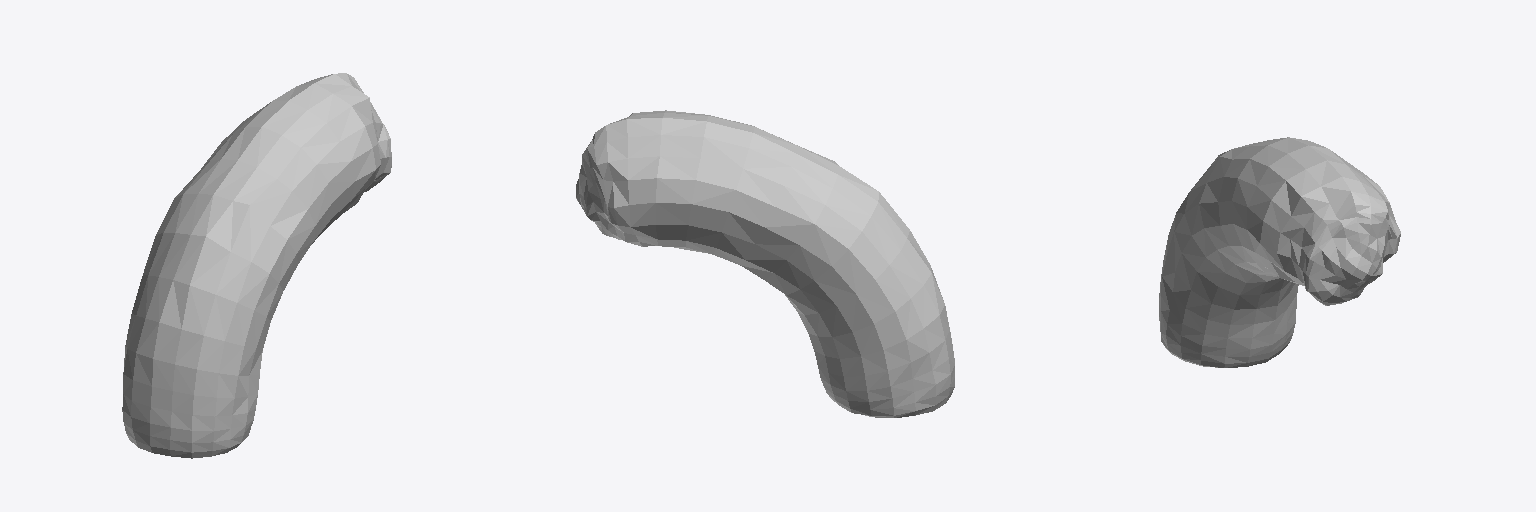
3 views of the same model, side by side, from view 1: azimuth 30°, elevation 25°; view 2: azimuth 150°, elevation 25°; view 3: azimuth 270°, elevation 25° (orthographic).
Parts seen in each view (by area): view 1: ZBrush_defualt_group; view 2: ZBrush_defualt_group; view 3: ZBrush_defualt_group.
Boxes of the visible parts, x1,y1,x2,y2 form: ZBrush_defualt_group: [122, 73, 391, 458]; ZBrush_defualt_group: [576, 110, 954, 417]; ZBrush_defualt_group: [1159, 137, 1400, 367].
Bounding box in the file's own units: 51.31 × 43.27 × 35.08.